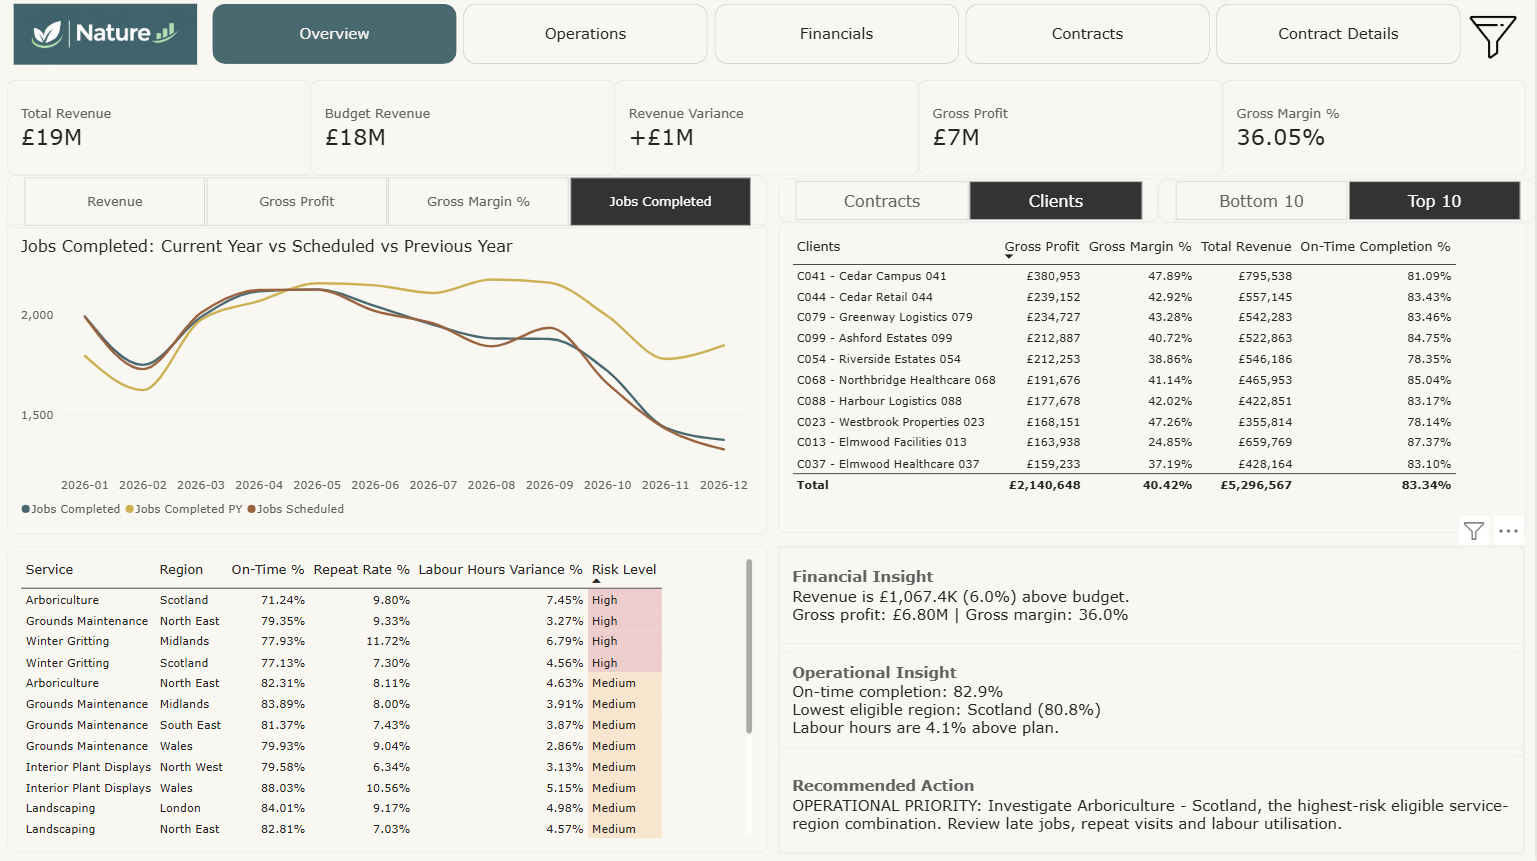

The page's visual inventory and layout, read from the dashboard file:
{"tool":"powerbi","page":{"name":"Overview","canvas":[1920,1080],"ordinal":1},"visuals":[{"type":"cardVisual","fields":{"Data":["Financial measures.Total Revenue","Financial measures.Budget Revenue","Financial measures.Revenue Variance","Financial measures.Gross Profit","Financial measures.Gross Margin %"]},"box":[14.1,106.7,1894.2,118.8],"z":0},{"type":"pageNavigator","box":[269,11.6,1558.6,75.6],"z":1000},{"type":"image","box":[1838.3,18.3,58.3,68.3],"z":2000},{"type":"lineChart","fields":{"Category":["Calendar.Year Month"],"Series":["Overview Trend Series.Series"],"Y":["Dynamic measures.Overview Trend Value"]},"box":[13.3,284.6,946.9,387.1],"z":3000},{"type":"tableEx","title":"Gross Profit & Gross Margin % by Month","fields":{"Values":["dim_clients.Client","Financial measures.Gross Profit","Financial measures.Gross Margin %","Financial measures.Total Revenue","Operational measures.On-Time Completion %"]},"box":[976.2,284.4,932.9,386.8],"z":4000},{"type":"cardVisual","fields":{"Data":["Dynamic measures.Executive Financial Insight","Dynamic measures.Executive Operational Insight","Dynamic measures.Executive Recommended Action"]},"box":[975.4,686.9,931.7,383.3],"z":5000},{"type":"tableEx","title":"Gross Profit & Gross Margin % by Month","fields":{"Values":["dim_services.service_name","dim_regions.region_name","Operational measures.On-Time Completion %","Operational measures.Repeat Visit Rate %","Operational measures.Labour Hours Variance %","Operational measures.Risk Level"]},"box":[13.3,686.9,946.9,381.4],"z":6000},{"type":"slicer","fields":{"Values":["Profit Ranking Selector.Ranking"]},"box":[1449.4,229.8,471,54.6],"z":7000},{"type":"slicer","fields":{"Values":["Profit Analysis Level.Profit Analysis Level"]},"box":[976.2,229.8,473.3,54.6],"z":8000},{"type":"slicer","fields":{"Values":["Performance Metric Selector.Metric"]},"box":[13.3,223.9,946.9,66.4],"z":10000},{"type":"image","box":[14,10.9,244.7,76.4],"z":11000}]}

Visuals, with their boxes in screenshot pixels (x1, y1, x2, y2), scaled from the page's 1920x1080 canvas onto the 1537x861 screenshot:
cardVisual - Financial measures.Total Revenue x Financial measures.Budget Revenue: pyautogui.locateOnScreen(11, 85, 1528, 180)
pageNavigator: pyautogui.locateOnScreen(215, 9, 1463, 70)
image: pyautogui.locateOnScreen(1472, 15, 1518, 69)
lineChart - Calendar.Year Month x Overview Trend Series.Series: pyautogui.locateOnScreen(11, 227, 769, 535)
"Gross Profit & Gross Margin % by Month" tableEx: pyautogui.locateOnScreen(781, 227, 1528, 535)
cardVisual - Dynamic measures.Executive Financial Insight x Dynamic measures.Executive Operational Insight: pyautogui.locateOnScreen(781, 548, 1527, 853)
"Gross Profit & Gross Margin % by Month" tableEx: pyautogui.locateOnScreen(11, 548, 769, 852)
slicer - Profit Ranking Selector.Ranking: pyautogui.locateOnScreen(1160, 183, 1536, 227)
slicer - Profit Analysis Level.Profit Analysis Level: pyautogui.locateOnScreen(781, 183, 1160, 227)
slicer - Performance Metric Selector.Metric: pyautogui.locateOnScreen(11, 178, 769, 231)
image: pyautogui.locateOnScreen(11, 9, 207, 70)
